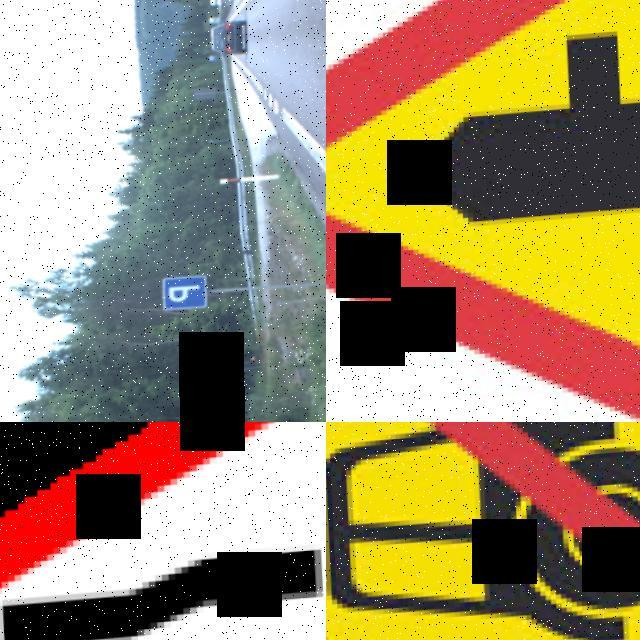166: (326, 0, 640, 422)
48: (326, 422, 640, 640)
86: (156, 273, 213, 315)
Narrow road: (0, 422, 326, 640)
